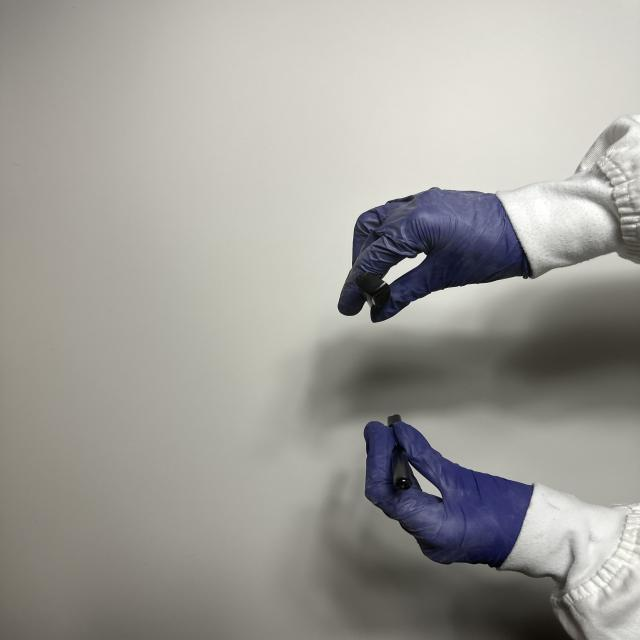gloves_contaminated: (338, 188, 532, 322), (365, 422, 533, 568)
